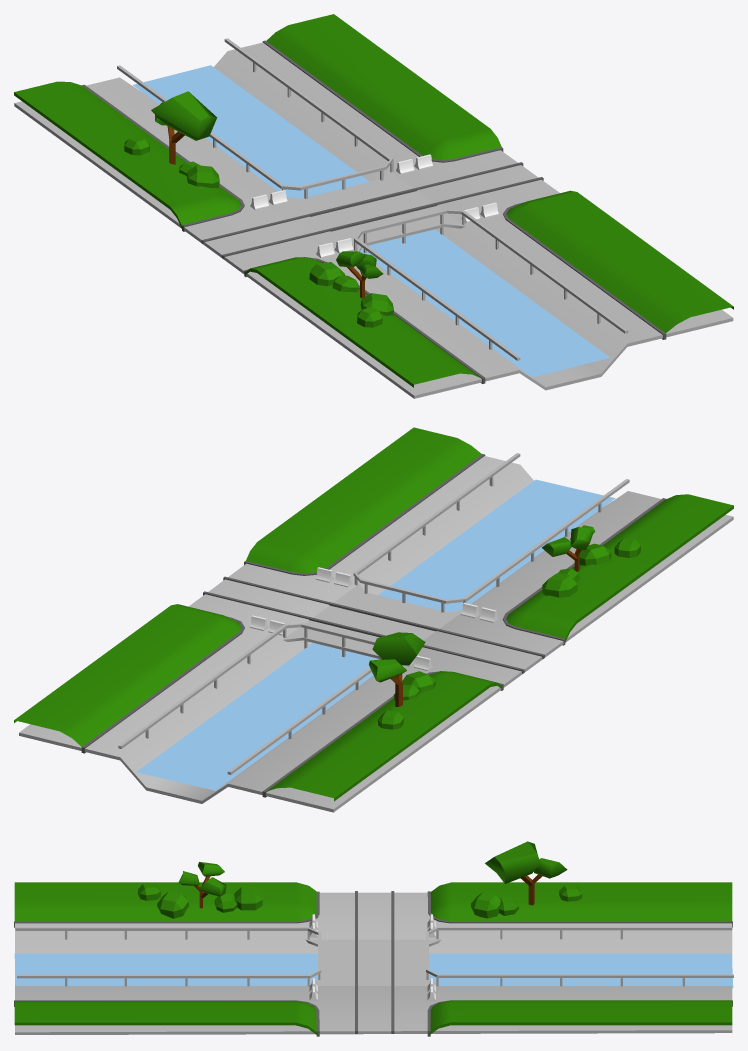
The model's file is L2 Waterway.fbx.
The picture shows the model from 3 angles, top to bottom: view 1: azimuth 30°, elevation 25°; view 2: azimuth 150°, elevation 25°; view 3: azimuth 270°, elevation 25°; orthographic projection. The views are drawn at different scales.
Parts seen in each view (by area): view 1: pCube7303, pPlane1116, pCube7260, pCube7254, pCube7281, pCube7285, pCube7270, pCube7298, pCube7291, pCube7288, pCube7306, pCube7305 (+5 smaller); view 2: pCube7303, pPlane1116, pCube7254, pCube7260, pCube7285, pCube7281, pCube7270, pCube7298, pCube7291, pCube7288, pCube7305, pCube7274 (+5 smaller); view 3: pCube7303, pPlane1116, pCube7281, pCube7285, pCube7260, pCube7254, pCube7270, pCube7298, pCube7291, pCube7288, pCube7274, pCube7273 (+10 smaller).
Part boxes in pixels (x1,y1,x2,y2): pCube7303: (14,42,733,398); pPlane1116: (133,65,610,377); pCube7260: (266,14,501,160); pCube7254: (506,190,733,333); pCube7281: (14,81,240,229); pCube7285: (245,257,481,387); pCube7270: (286,170,464,251); pCube7298: (354,209,628,360); pCube7291: (117,38,392,190); pCube7288: (151,91,217,164); pCube7306: (201,162,523,244); pCube7305: (222,177,543,259); pCube7303: (19,456,733,812); pPlane1116: (136,479,615,790); pCube7254: (246,427,481,573); pCube7260: (14,604,241,746); pCube7285: (506,494,733,642); pCube7281: (266,671,502,801); pCube7270: (283,584,462,659); pCube7298: (353,453,629,603); pCube7291: (118,623,381,774); pCube7288: (369,632,425,706); pCube7305: (223,576,544,658); pCube7274: (542,525,595,571); pCube7303: (15,892,732,1034); pPlane1116: (14,953,733,988); pCube7281: (430,882,732,921); pCube7285: (14,882,316,921); pCube7260: (429,1000,732,1034); pCube7254: (14,1001,316,1034); pCube7270: (305,939,441,985); pCube7298: (15,927,321,978); pCube7291: (426,926,733,977); pCube7288: (485,841,567,905); pCube7274: (178,862,226,908); pCube7273: (14,891,319,927).
Size of the model in its own units: 12.3 by 3.85 by 26.64.
1 material, 1 textured.
